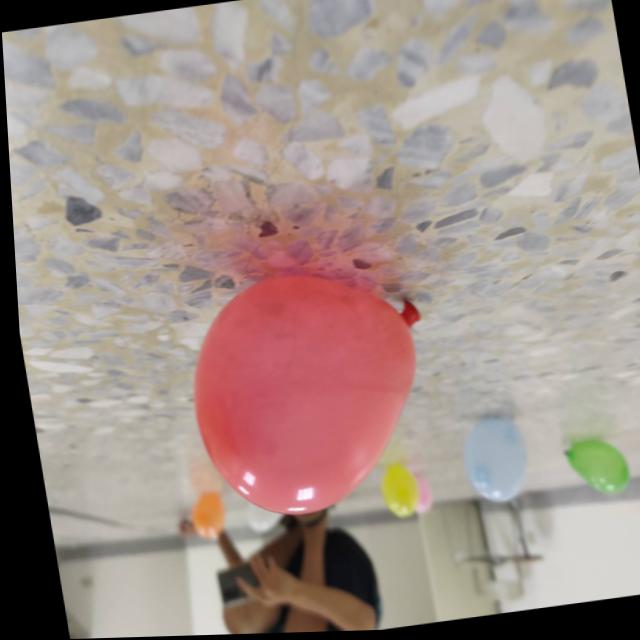other: (452, 415, 529, 510), (556, 441, 628, 505), (371, 462, 413, 524), (183, 491, 225, 544), (402, 477, 430, 519)
red: (168, 258, 444, 529)
